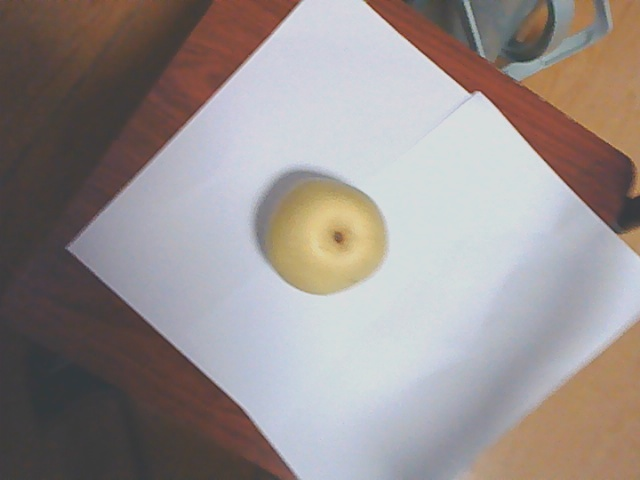pear: (264, 173, 388, 298)
